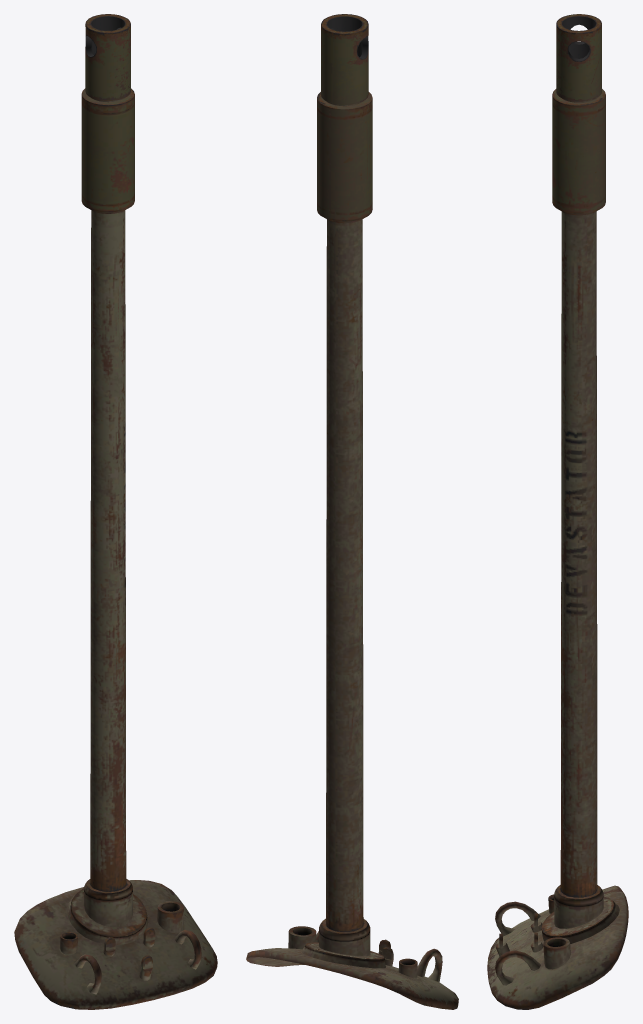
Rendered from Gun_11.glb.
3 views of the same model, side by side, from view 1: azimuth 30°, elevation 25°; view 2: azimuth 150°, elevation 25°; view 3: azimuth 270°, elevation 25° (orthographic). The views are drawn at different scales.
Parts seen in each view (by area): view 1: set_0_group_0; view 2: set_0_group_0; view 3: set_0_group_0.
Boxes of the visible parts, x1,y1,x2,y2 form: set_0_group_0: (14,14,217,1009); set_0_group_0: (246,14,458,1009); set_0_group_0: (487,14,628,1009).
Bounding box in the file's own units: 1.03 × 5.54 × 0.7492.
Materials: 1 (1 with a texture image).
